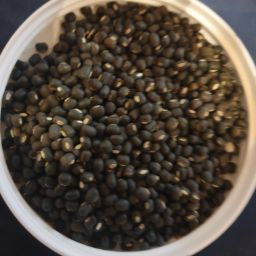Black Gram(urad daal): (25, 1, 249, 248), (11, 134, 224, 228), (26, 39, 232, 135), (6, 70, 98, 235)
